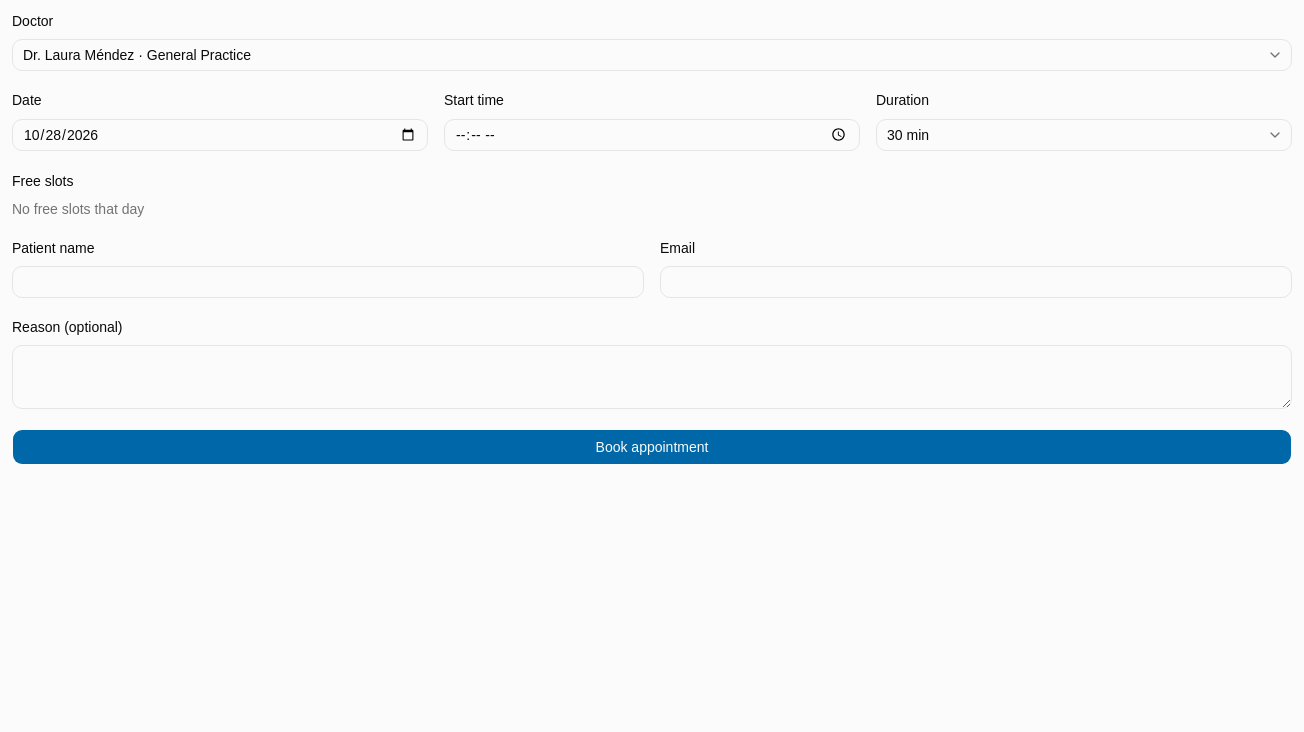
Test: BookingForm › shows validation messages and sends nothing when submitted empty
Click the button "Book appointment". click: (652, 447)
box: [12,429,1292,465]
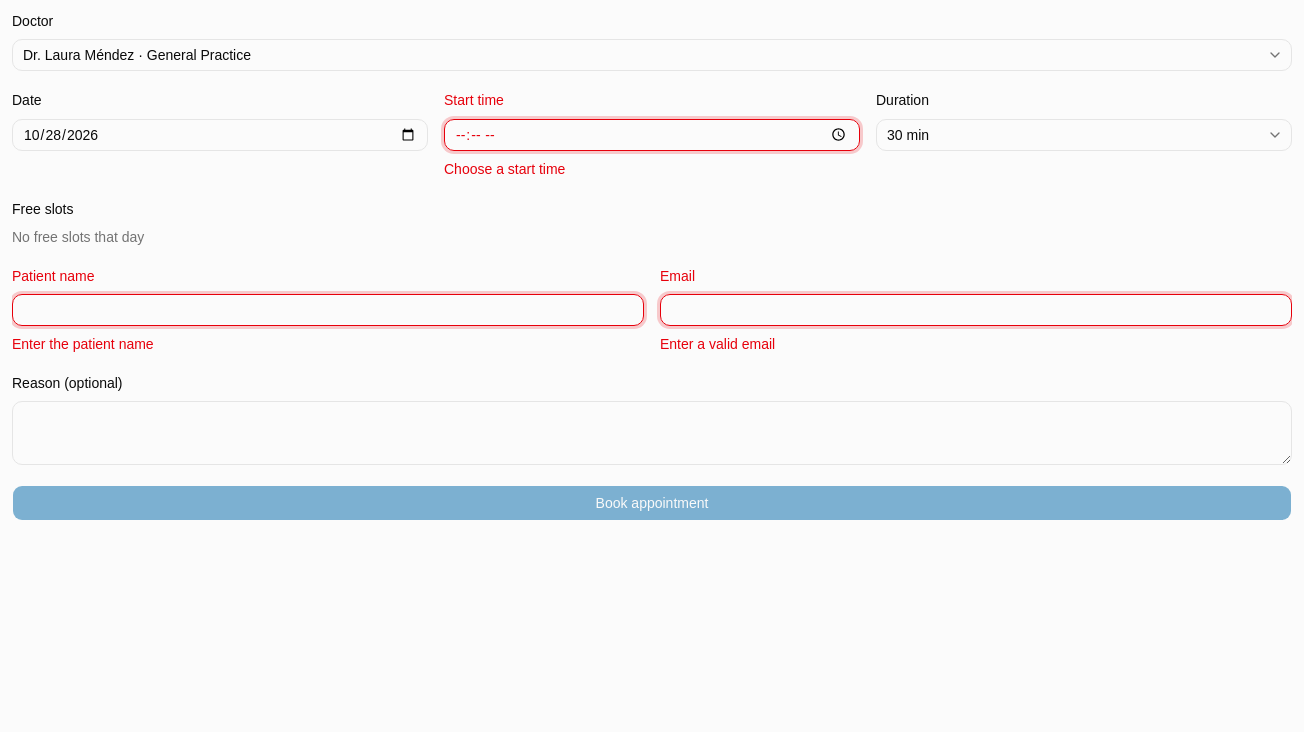
expect the text "Choose a start time" is shown: met, box [444,160,565,176]
expect the text "Enter the patient name" is shown: met, box [12,336,154,352]
expect the text "Enter a valid email" is shown: met, box [660,336,775,352]
